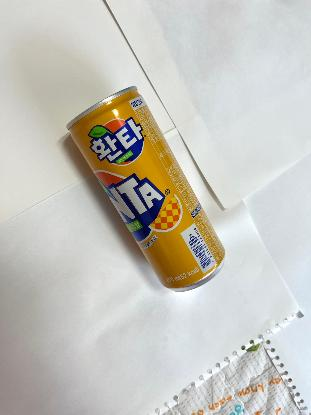Can: (64, 83, 228, 294)
